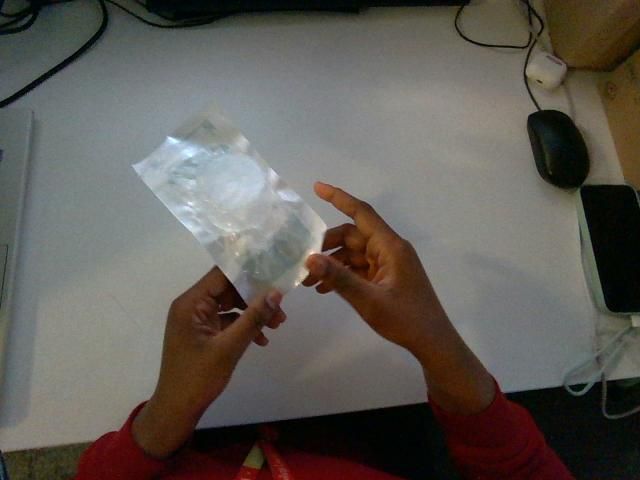gallipot: (134, 104, 325, 301)
